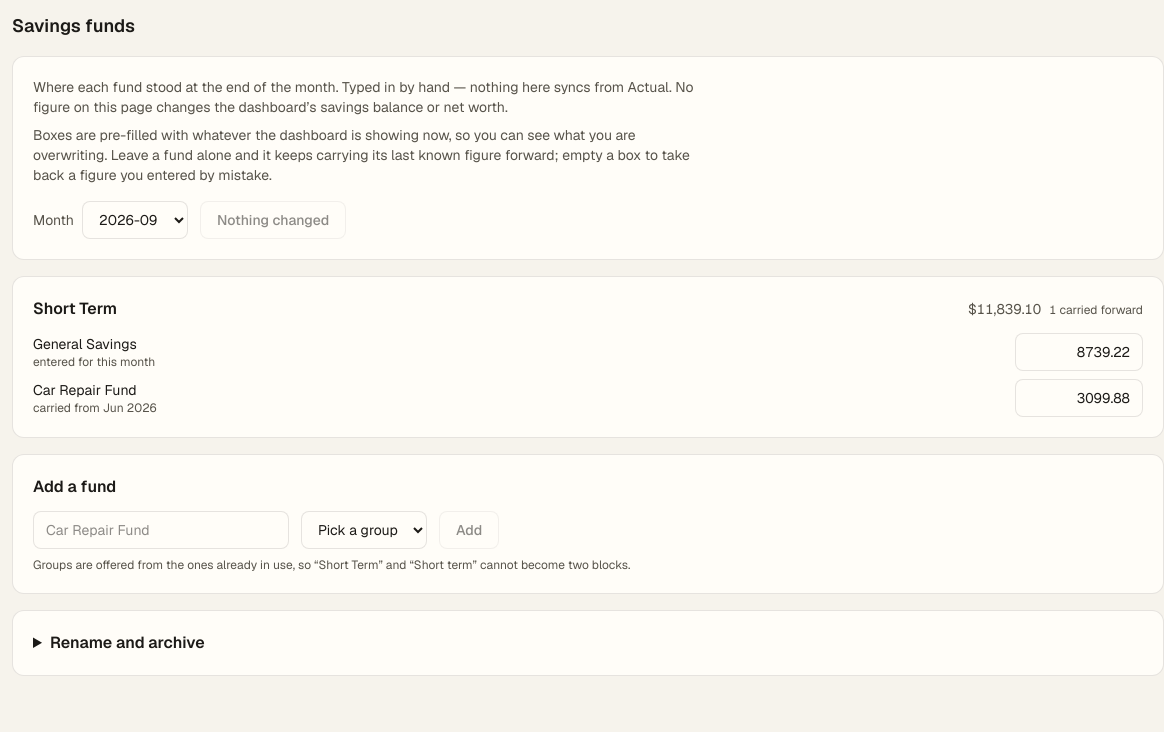
a late reply from an abandoned month cannot take over the grid
The image size is (1164, 732).
Select "2026-08" in the dropdown labelled "Month" at (135, 220), box [82, 201, 188, 239]
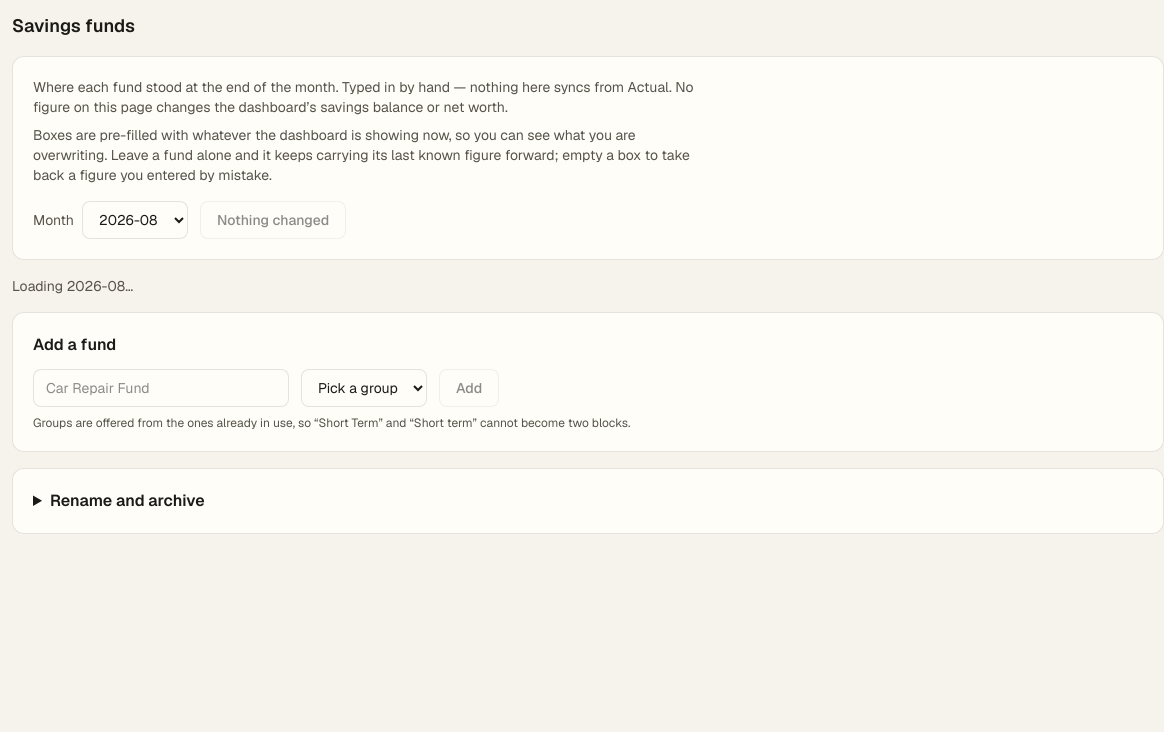
Select "2026-07" in the dropdown labelled "Month" at (135, 220), box [82, 201, 188, 239]
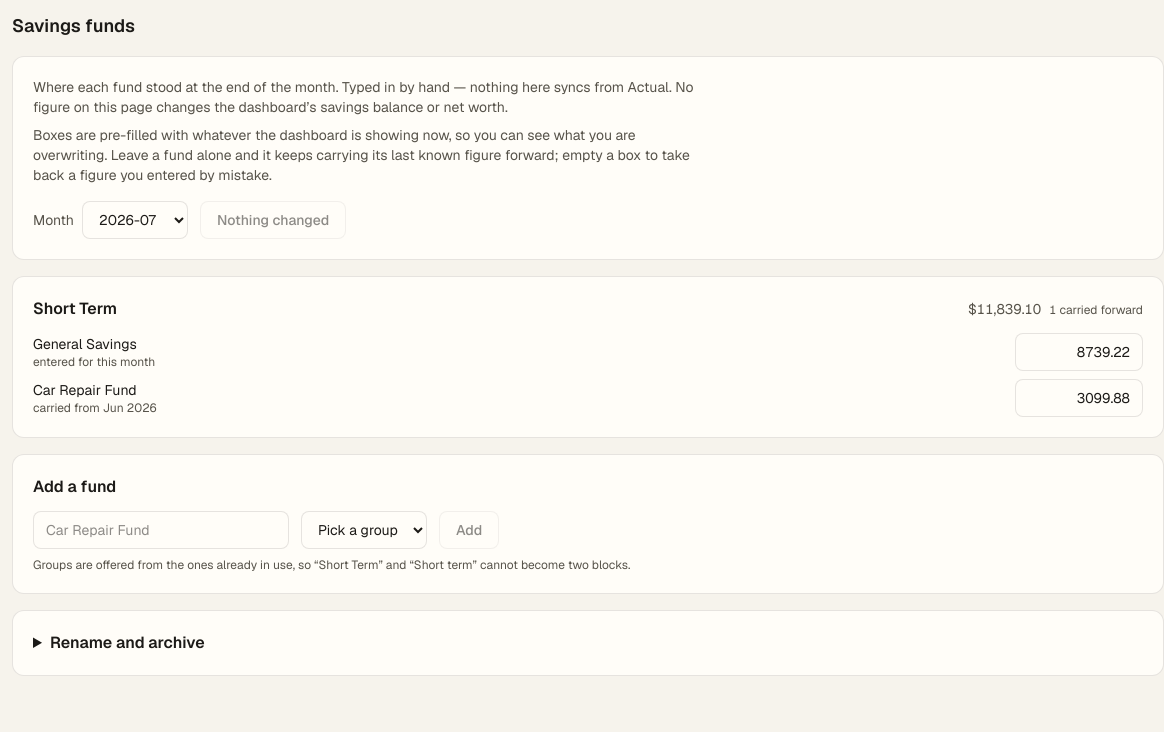
Expected: the field named "General Savings balance" is shown, [1015, 333, 1143, 371]
